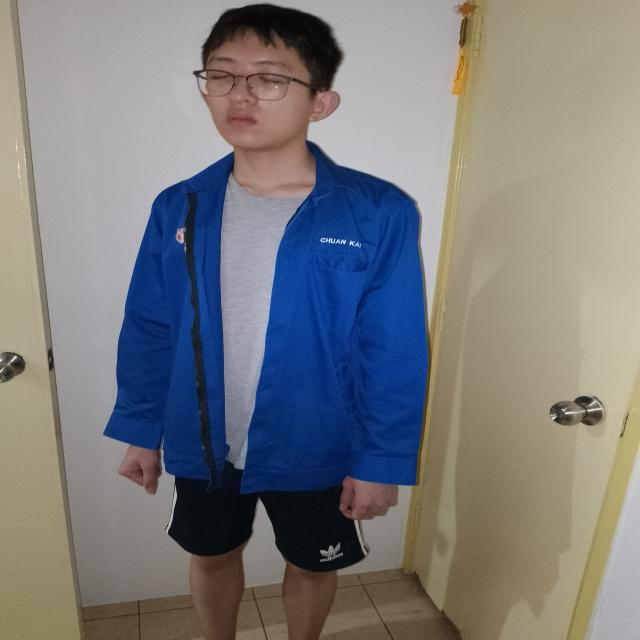person_with_labcoat: (105, 4, 428, 640)
